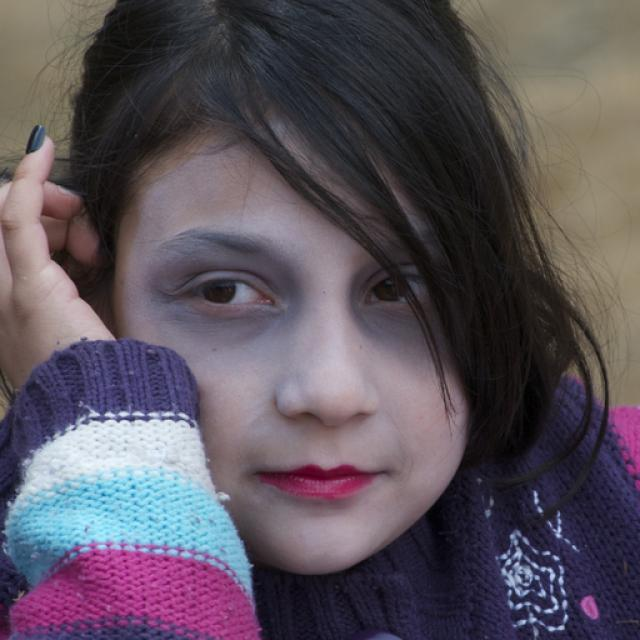neutral: (114, 127, 482, 575)
